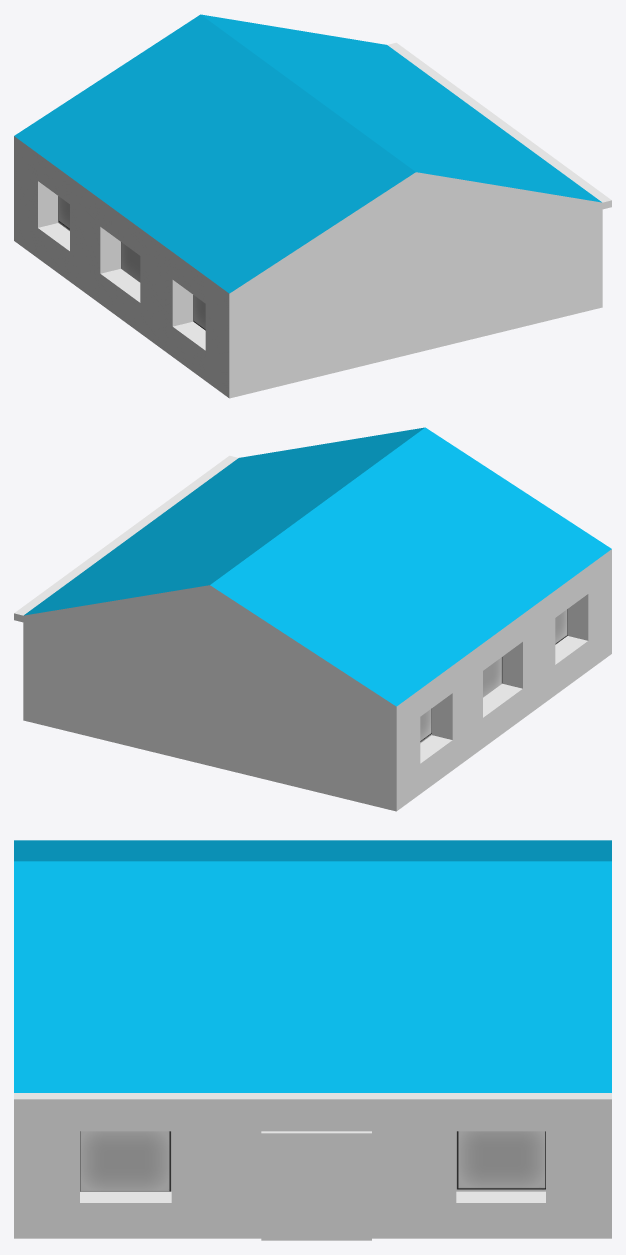
Rendered from building top.fbx.
3 views of the same model, one above another, from view 1: azimuth 30°, elevation 25°; view 2: azimuth 150°, elevation 25°; view 3: azimuth 270°, elevation 25° (orthographic). The views are drawn at different scales.
Visible parts, largest first — view 1: Cube; view 2: Cube; view 3: Cube.
Part boxes in pixels (x1=…): Cube: x1=14, y1=14, x2=611, y2=398; Cube: x1=14, y1=427, x2=611, y2=811; Cube: x1=14, y1=840, x2=611, y2=1240.
Bounding box in the file's own units: 2.05 × 0.9263 × 2.
